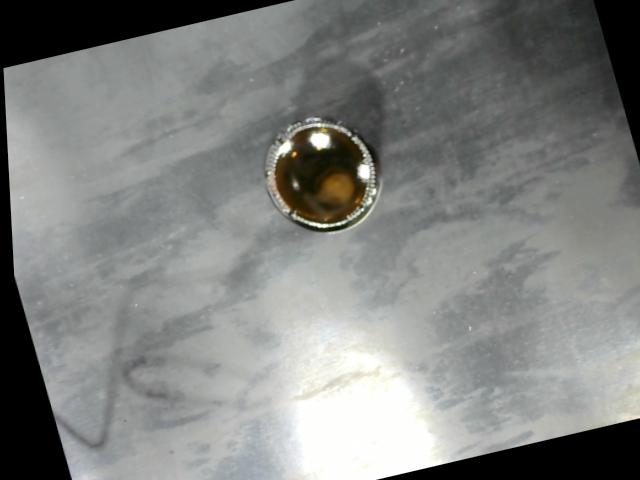glass: (257, 105, 390, 242)
